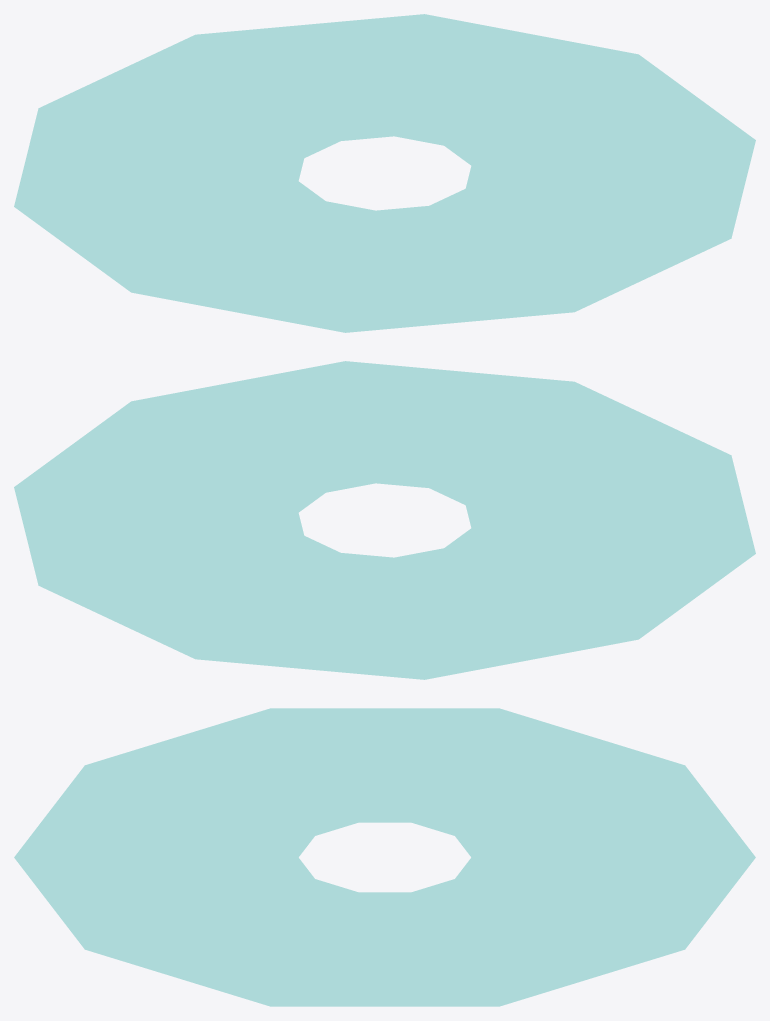
File: circlewake.fbx
3 renders of one model, top to bottom at view 1: azimuth 30°, elevation 25°; view 2: azimuth 150°, elevation 25°; view 3: azimuth 270°, elevation 25°, orthographic. The views are drawn at different scales.
Parts seen in each view (by area): view 1: obj0.195; view 2: obj0.195; view 3: obj0.195.
Boxes of the visible parts, left/top/right/bottom form: obj0.195: left=14, top=14, right=755, bottom=332; obj0.195: left=14, top=361, right=755, bottom=679; obj0.195: left=14, top=708, right=755, bottom=1006.
Bounding box in the file's own units: 3.49 × 6.35e-07 × 3.67.
